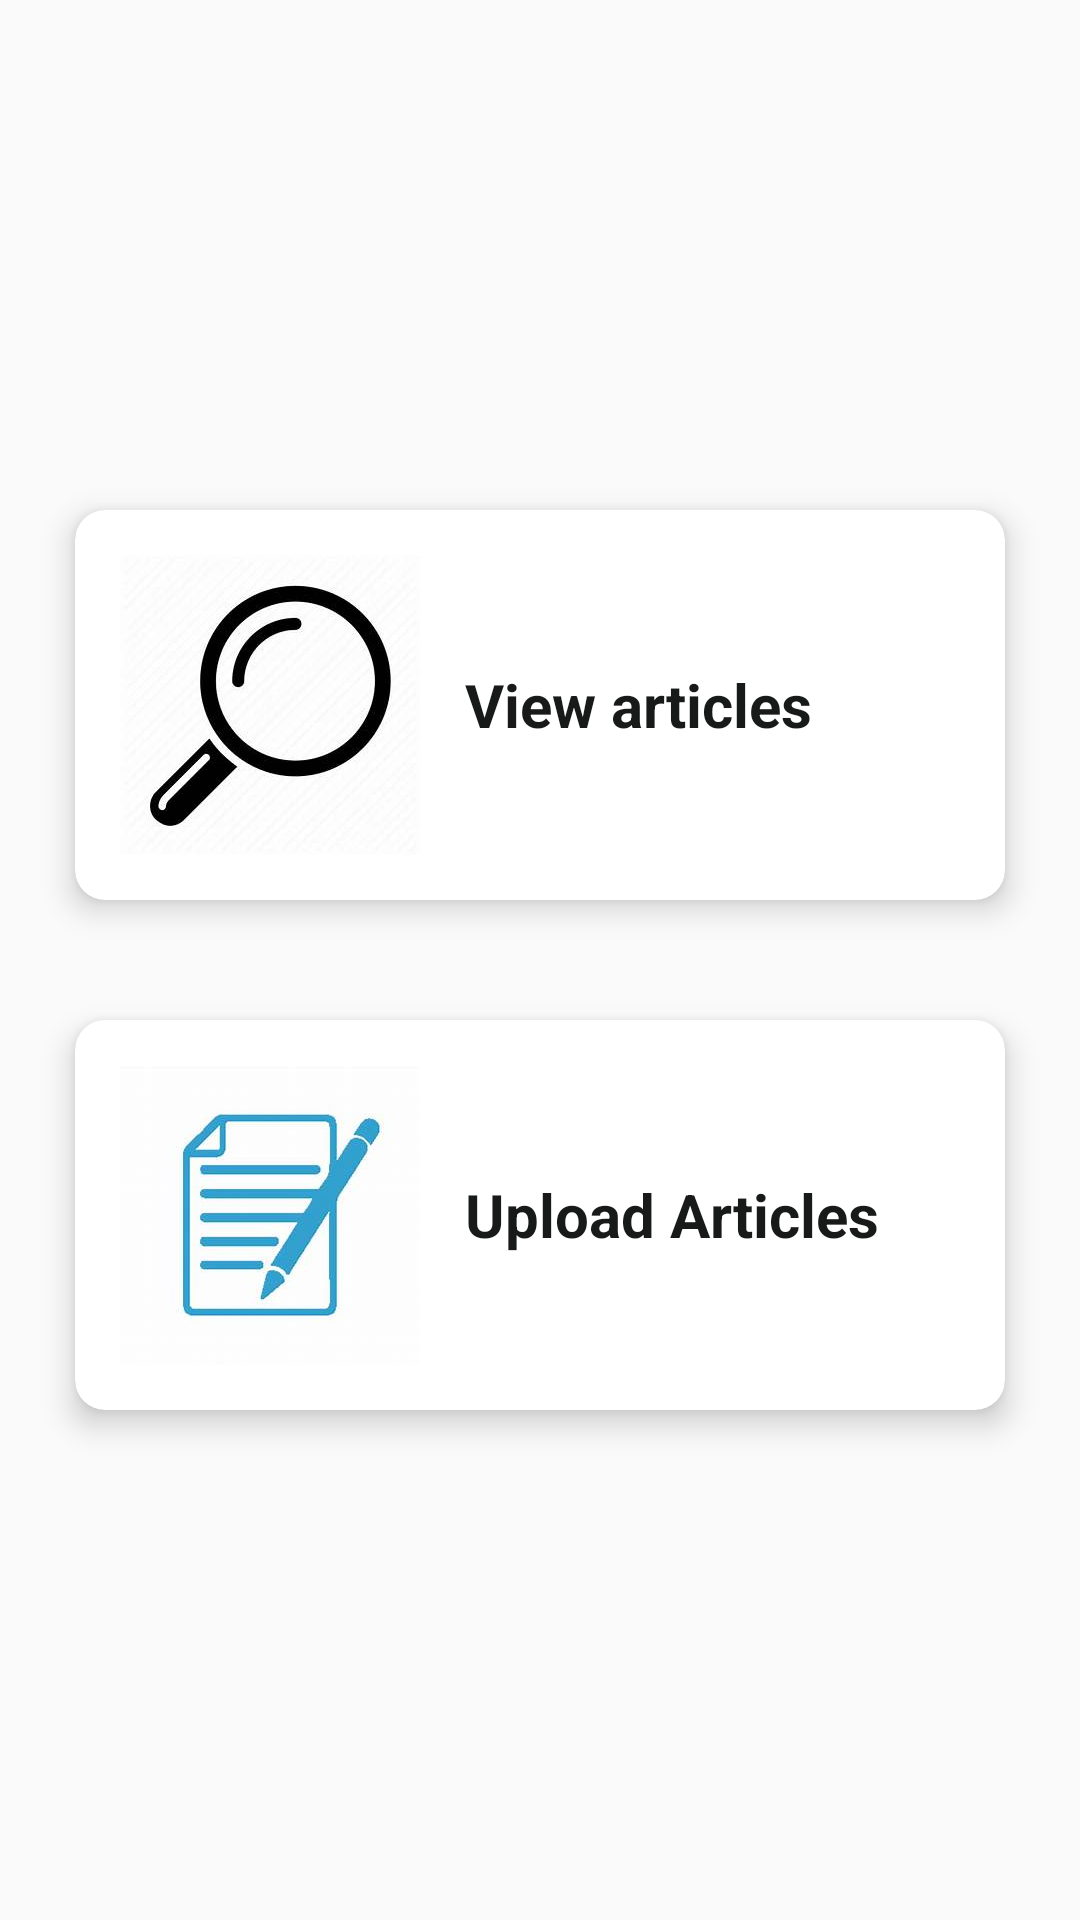

Named icons in this screenshot (1080×1920) and their bounding boxes, (x1, y1, x2, y2):
searchbuk: (150, 585, 391, 826)
